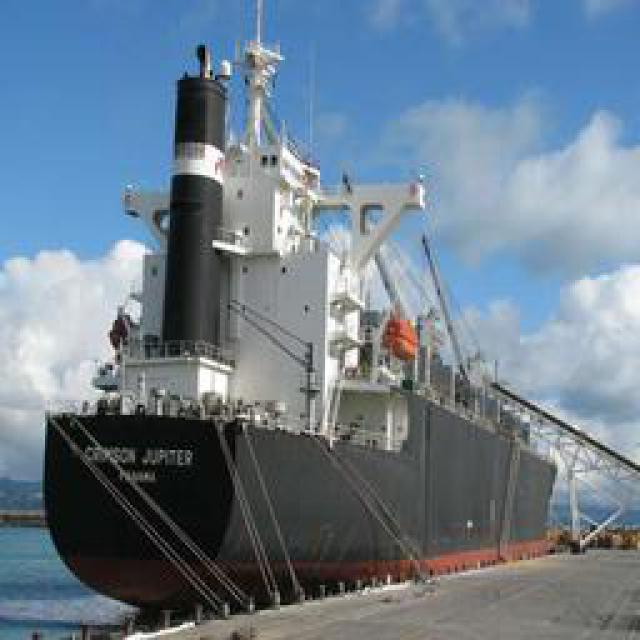Ship: (41, 24, 616, 617)
